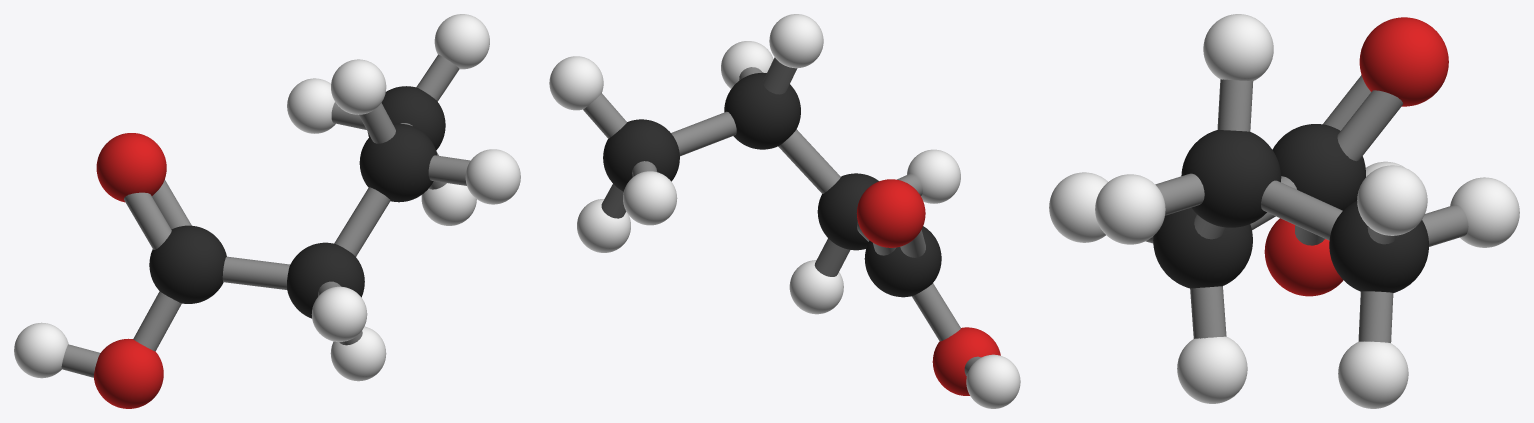
Rendered from butansaeure.glb.
The picture shows the model from 3 angles, left to right: view 1: azimuth 30°, elevation 25°; view 2: azimuth 150°, elevation 25°; view 3: azimuth 270°, elevation 25°; orthographic projection. The views are drawn at different scales.
Parts seen in each view (by area): view 1: C_3, C_1, O_5, O_4, C_2, H_11, H_9, H_10, H_7, H_13, C_0, H_6 (+12 smaller); view 2: C_1, O_4, C_0, C_3, C_2, O_5, H_6, H_10, H_13, H_7, H_12, H_11 (+9 smaller); view 3: C_1, O_4, C_0, C_2, C_3, H_7, H_9, H_8, O_5, H_12, H_10, H_6 (+10 smaller).
Boxes of the visible parts, x1=… form: C_3: x1=149, y1=225, x2=226, y2=303; C_1: x1=359, y1=123, x2=437, y2=202; O_5: x1=94, y1=338, x2=163, y2=408; O_4: x1=96, y1=133, x2=166, y2=202; C_2: x1=287, y1=242, x2=364, y2=318; H_11: x1=311, y1=286, x2=367, y2=341; H_9: x1=465, y1=149, x2=520, y2=204; H_10: x1=331, y1=59, x2=386, y2=114; H_7: x1=434, y1=14, x2=489, y2=69; H_13: x1=14, y1=322, x2=68, y2=378; C_0: x1=367, y1=86, x2=445, y2=150; H_6: x1=287, y1=78, x2=335, y2=133; C_1: x1=724, y1=72, x2=800, y2=149; O_4: x1=856, y1=179, x2=925, y2=247; C_0: x1=603, y1=119, x2=679, y2=191; C_3: x1=864, y1=226, x2=941, y2=297; C_2: x1=817, y1=173, x2=878, y2=250; O_5: x1=932, y1=327, x2=1000, y2=395; H_6: x1=623, y1=171, x2=677, y2=225; H_10: x1=769, y1=14, x2=823, y2=68; H_13: x1=966, y1=354, x2=1020, y2=408; H_7: x1=549, y1=56, x2=603, y2=110; H_12: x1=789, y1=260, x2=843, y2=314; H_11: x1=907, y1=149, x2=960, y2=203; C_1: x1=1181, y1=130, x2=1281, y2=227; O_4: x1=1359, y1=17, x2=1448, y2=106; C_0: x1=1329, y1=201, x2=1428, y2=292; C_2: x1=1153, y1=208, x2=1252, y2=288; C_3: x1=1272, y1=124, x2=1365, y2=210; H_7: x1=1357, y1=165, x2=1427, y2=235; H_9: x1=1095, y1=174, x2=1165, y2=244; H_8: x1=1338, y1=341, x2=1408, y2=408; O_5: x1=1264, y1=218, x2=1343, y2=296; H_12: x1=1177, y1=336, x2=1247, y2=403; H_10: x1=1203, y1=14, x2=1273, y2=80; H_6: x1=1450, y1=177, x2=1519, y2=247.
Bounding box in the file's own units: 5.89 × 3.76 × 4.
